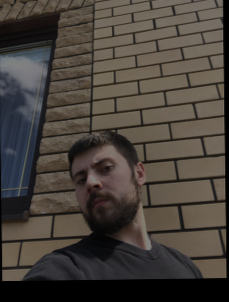without_mask: (72, 154, 140, 235)
